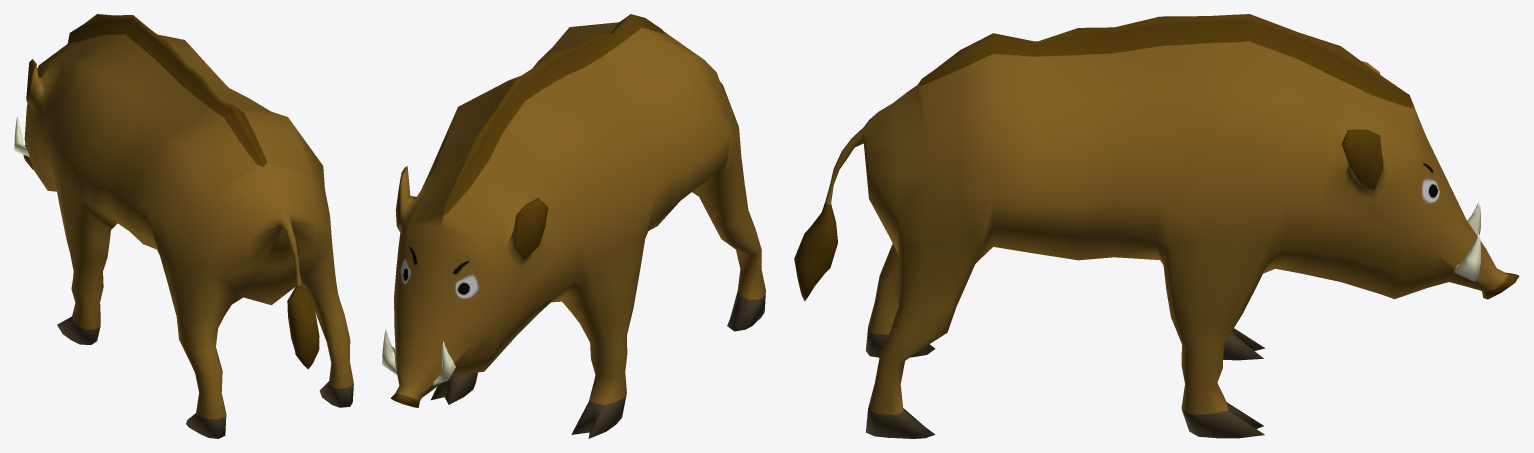
File: boar.glb
3 renders of one model, left to right at view 1: azimuth 30°, elevation 25°; view 2: azimuth 150°, elevation 25°; view 3: azimuth 270°, elevation 25°, orthographic. The views are drawn at different scales.
Visible parts, largest first — view 1: Boar; view 2: Boar; view 3: Boar.
Boxes of the visible parts, x1=… form: Boar: x1=14, y1=14, x2=353, y2=438; Boar: x1=382, y1=14, x2=765, y2=438; Boar: x1=794, y1=14, x2=1519, y2=438.
Bounding box in the file's own units: 1.99 × 3.18 × 5.53.
1 material, 1 textured.
